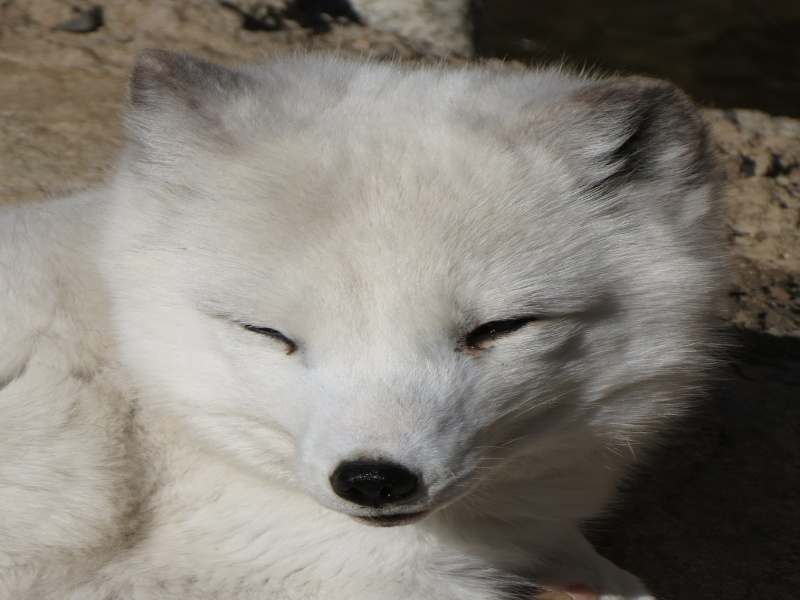fox: (12, 57, 710, 587)
